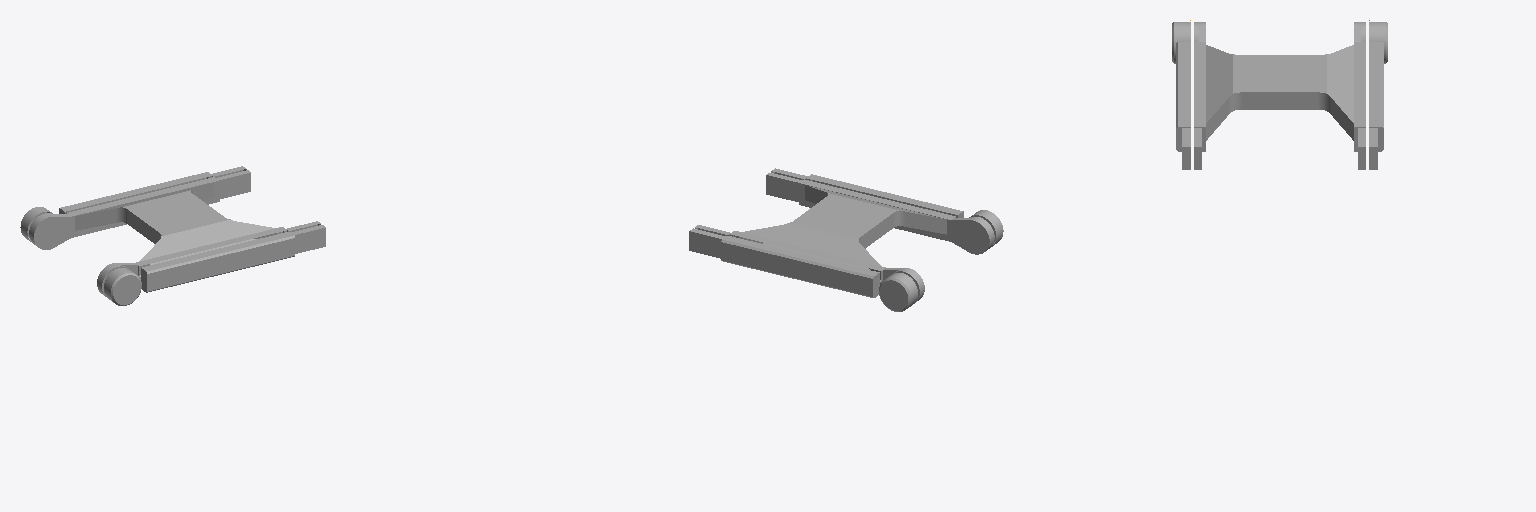
robot.urdf — zx135u:
<?xml version="1.0" encoding="utf-8"?>
<!-- =================================================================================== -->
<!-- |    This document was autogenerated by xacro from zx135u.xacro                   | -->
<!-- |    EDITING THIS FILE BY HAND IS NOT RECOMMENDED                                 | -->
<!-- =================================================================================== -->
<robot name="zx135u">
  <!-- Inertia is calculated as slender rod in https://en.wikipedia.org/wiki/List_of_moments_of_inertia#List_of_3D_inertia_tensors -->
  <link name="base_link"/>
  <link name="track_body_link">
    <visual>
      <geometry>
        <mesh filename="package://excavator_model/mesh/meshbody39_rviz.stl"/>
      </geometry>
      <origin rpy="0 0 0" xyz="0 0 0"/>
      <material name="Gray">
        <color rgba="0.7 0.7 0.7 1.0"/>
      </material>
    </visual>
    <inertial>
      <mass value="2.0"/>
      <inertia ixx="1" ixy="0.0" ixz="0.0" iyy="1" iyz="0.0" izz="1"/>
    </inertial>
  </link>
  <joint name="track_body_joint" type="fixed">
    <origin rpy="0 0 0" xyz="0 0 0"/>
    <parent link="base_link"/>
    <child link="track_body_link"/>
    <axis xyz="0 0 1"/>
  </joint>
  <link name="sprocket_L_link">
    <visual>
      <geometry>
        <mesh filename="package://excavator_model/mesh/meshbody39_rviz_sprocket.stl"/>
      </geometry>
      <origin rpy="0 0 0" xyz="0 0 0"/>
      <material name="Gray">
        <color rgba="0.7 0.7 0.7 1.0"/>
      </material>
    </visual>
  </link>
  <joint name="sprocket_L_joint" type="continuous">
    <origin rpy="0 0 0" xyz="-1.43841 0.991606 0.355475"/>
    <parent link="track_body_link"/>
    <child link="sprocket_L_link"/>
    <axis xyz="0 1 0"/>
  </joint>
  <link name="sprocket_R_link">
    <visual>
      <geometry>
        <mesh filename="package://excavator_model/mesh/meshbody39_rviz_sprocket.stl"/>
      </geometry>
      <origin rpy="0 0 3.14159265359" xyz="0 0 0"/>
      <material name="Gray">
        <color rgba="0.7 0.7 0.7 1.0"/>
      </material>
    </visual>
  </link>
  <joint name="sprocket_R_joint" type="continuous">
    <origin rpy="0 0 0" xyz="-1.43841 -0.991606 0.355475"/>
    <parent link="track_body_link"/>
    <child link="sprocket_R_link"/>
    <axis xyz="0 1 0"/>
  </joint>
  <joint name="left_front_wheel_joint" type="continuous">
    <origin rpy="-1.57079632679 0 0" xyz="0 1 0.6"/>
    <parent link="track_body_link"/>
    <child link="left_front_wheel_link"/>
    <axis xyz="0 0 1"/>
  </joint>
  <transmission name="left_front_wheel_trans" type="SimpleTransmission">
    <type>transmission_interface/SimpleTransmission</type>
    <actuator name="left_front_wheel_motor">
      <mechanicalReduction>1</mechanicalReduction>
    </actuator>
    <joint name="left_front_wheel_joint">
      <hardwareInterface>hardware_interface/VelocityJointInterface</hardwareInterface>
    </joint>
  </transmission>
  <link name="left_front_wheel_link">
    <inertial>
      <origin rpy="0 0 0" xyz="0 0 0"/>
      <mass value="0.1"/>
      <inertia ixx="0.0001" ixy="0.0" ixz="0.0" iyy="0.0001" iyz="0.0" izz="0.0001"/>
    </inertial>
    <visual>
      <geometry>
        <cylinder length="0.001" radius="0.001"/>
      </geometry>
      <!--material name="red"/-->
    </visual>
    <collision>
      <geometry>
        <cylinder length="0.6" radius="0.6"/>
      </geometry>
    </collision>
  </link>
  <gazebo reference="left_front_wheel_link">
    <!--material>Gazebo/Red</material-->
    <mu1 value="2.5"/>
    <mu2 value="2.5"/>
    <kp value="50000"/>
    <kd value="10"/>
  </gazebo>
  <joint name="left_middle_wheel_joint" type="continuous">
    <origin rpy="-1.57079632679 0 0" xyz="-1.5 1 0.6"/>
    <parent link="track_body_link"/>
    <child link="left_middle_wheel_link"/>
    <axis xyz="0 0 1"/>
  </joint>
  <transmission name="left_middle_wheel_trans" type="SimpleTransmission">
    <type>transmission_interface/SimpleTransmission</type>
    <actuator name="left_middle_wheel_motor">
      <mechanicalReduction>1</mechanicalReduction>
    </actuator>
    <joint name="left_middle_wheel_joint">
      <hardwareInterface>hardware_interface/VelocityJointInterface</hardwareInterface>
    </joint>
  </transmission>
  <link name="left_middle_wheel_link">
    <inertial>
      <origin rpy="0 0 0" xyz="0 0 0"/>
      <mass value="0.1"/>
      <inertia ixx="0.0001" ixy="0.0" ixz="0.0" iyy="0.0001" iyz="0.0" izz="0.0001"/>
    </inertial>
    <visual>
      <geometry>
        <cylinder length="0.001" radius="0.001"/>
      </geometry>
      <!--material name="red"/-->
    </visual>
    <collision>
      <geometry>
        <cylinder length="0.6" radius="0.6"/>
      </geometry>
    </collision>
  </link>
  <gazebo reference="left_middle_wheel_link">
    <!--material>Gazebo/Red</material-->
    <mu1 value="2.5"/>
    <mu2 value="2.5"/>
    <kp value="50000"/>
    <kd value="10"/>
  </gazebo>
  <joint name="left_rear_wheel_joint" type="continuous">
    <origin rpy="-1.57079632679 0 0" xyz="1.5 1 0.6"/>
    <parent link="track_body_link"/>
    <child link="left_rear_wheel_link"/>
    <axis xyz="0 0 1"/>
  </joint>
  <transmission name="left_rear_wheel_trans" type="SimpleTransmission">
    <type>transmission_interface/SimpleTransmission</type>
    <actuator name="left_rear_wheel_motor">
      <mechanicalReduction>1</mechanicalReduction>
    </actuator>
    <joint name="left_rear_wheel_joint">
      <hardwareInterface>hardware_interface/VelocityJointInterface</hardwareInterface>
    </joint>
  </transmission>
  <link name="left_rear_wheel_link">
    <inertial>
      <origin rpy="0 0 0" xyz="0 0 0"/>
      <mass value="0.1"/>
      <inertia ixx="0.0001" ixy="0.0" ixz="0.0" iyy="0.0001" iyz="0.0" izz="0.0001"/>
    </inertial>
    <visual>
      <geometry>
        <cylinder length="0.001" radius="0.001"/>
      </geometry>
      <!--material name="red"/-->
    </visual>
    <collision>
      <geometry>
        <cylinder length="0.6" radius="0.6"/>
      </geometry>
    </collision>
  </link>
  <gazebo reference="left_rear_wheel_link">
    <!--material>Gazebo/Red</material-->
    <mu1 value="2.5"/>
    <mu2 value="2.5"/>
    <kp value="50000"/>
    <kd value="10"/>
  </gazebo>
  <joint name="right_front_wheel_joint" type="continuous">
    <origin rpy="-1.57079632679 0 0" xyz="0 -1 0.6"/>
    <parent link="track_body_link"/>
    <child link="right_front_wheel_link"/>
    <axis xyz="0 0 1"/>
  </joint>
  <transmission name="right_front_wheel_trans" type="SimpleTransmission">
    <type>transmission_interface/SimpleTransmission</type>
    <actuator name="right_front_wheel_motor">
      <mechanicalReduction>1</mechanicalReduction>
    </actuator>
    <joint name="right_front_wheel_joint">
      <hardwareInterface>hardware_interface/VelocityJointInterface</hardwareInterface>
    </joint>
  </transmission>
  <link name="right_front_wheel_link">
    <inertial>
      <origin rpy="0 0 0" xyz="0 0 0"/>
      <mass value="0.1"/>
      <inertia ixx="0.0001" ixy="0.0" ixz="0.0" iyy="0.0001" iyz="0.0" izz="0.0001"/>
    </inertial>
    <visual>
      <geometry>
        <cylinder length="0.001" radius="0.001"/>
      </geometry>
      <!--material name="red"/-->
    </visual>
    <collision>
      <geometry>
        <cylinder length="0.6" radius="0.6"/>
      </geometry>
    </collision>
  </link>
  <gazebo reference="right_front_wheel_link">
    <!--material>Gazebo/Red</material-->
    <mu1 value="2.5"/>
    <mu2 value="2.5"/>
    <kp value="50000"/>
    <kd value="10"/>
  </gazebo>
  <joint name="right_middle_wheel_joint" type="continuous">
    <origin rpy="-1.57079632679 0 0" xyz="-1.5 -1 0.6"/>
    <parent link="track_body_link"/>
    <child link="right_middle_wheel_link"/>
    <axis xyz="0 0 1"/>
  </joint>
  <transmission name="right_middle_wheel_trans" type="SimpleTransmission">
    <type>transmission_interface/SimpleTransmission</type>
    <actuator name="right_middle_wheel_motor">
      <mechanicalReduction>1</mechanicalReduction>
    </actuator>
    <joint name="right_middle_wheel_joint">
      <hardwareInterface>hardware_interface/VelocityJointInterface</hardwareInterface>
    </joint>
  </transmission>
  <link name="right_middle_wheel_link">
    <inertial>
      <origin rpy="0 0 0" xyz="0 0 0"/>
      <mass value="0.1"/>
      <inertia ixx="0.0001" ixy="0.0" ixz="0.0" iyy="0.0001" iyz="0.0" izz="0.0001"/>
    </inertial>
    <visual>
      <geometry>
        <cylinder length="0.001" radius="0.001"/>
      </geometry>
      <!--material name="red"/-->
    </visual>
    <collision>
      <geometry>
        <cylinder length="0.6" radius="0.6"/>
      </geometry>
    </collision>
  </link>
  <gazebo reference="right_middle_wheel_link">
    <!--material>Gazebo/Red</material-->
    <mu1 value="2.5"/>
    <mu2 value="2.5"/>
    <kp value="50000"/>
    <kd value="10"/>
  </gazebo>
  <joint name="right_rear_wheel_joint" type="continuous">
    <origin rpy="-1.57079632679 0 0" xyz="1.5 -1 0.6"/>
    <parent link="track_body_link"/>
    <child link="right_rear_wheel_link"/>
    <axis xyz="0 0 1"/>
  </joint>
  <transmission name="right_rear_wheel_trans" type="SimpleTransmission">
    <type>transmission_interface/SimpleTransmission</type>
    <actuator name="right_rear_wheel_motor">
      <mechanicalReduction>1</mechanicalReduction>
    </actuator>
    <joint name="right_rear_wheel_joint">
      <hardwareInterface>hardware_interface/VelocityJointInterface</hardwareInterface>
    </joint>
  </transmission>
  <link name="right_rear_wheel_link">
    <inertial>
      <origin rpy="0 0 0" xyz="0 0 0"/>
      <mass value="0.1"/>
      <inertia ixx="0.0001" ixy="0.0" ixz="0.0" iyy="0.0001" iyz="0.0" izz="0.0001"/>
    </inertial>
    <visual>
      <geometry>
        <cylinder length="0.001" radius="0.001"/>
      </geometry>
      <!--material name="red"/-->
    </visual>
    <collision>
      <geometry>
        <cylinder length="0.6" radius="0.6"/>
      </geometry>
    </collision>
  </link>
  <gazebo reference="right_rear_wheel_link">
    <!--material>Gazebo/Red</material-->
    <mu1 value="2.5"/>
    <mu2 value="2.5"/>
    <kp value="50000"/>
    <kd value="10"/>
  </gazebo>
  <!-- Track Model and Joint Definition-->
  <link name="track_link">
    <visual>
      <geometry>
        <mesh filename="package://excavator_model/mesh/meshbody38_rviz.stl"/>
      </geometry>
      <origin rpy="0 0 0" xyz="0 0 0"/>
      <material name="Black">
        <color rgba="0.0 0.0 0.0 1.0"/>
      </material>
    </visual>
    <inertial>
      <mass value="1"/>
      <inertia ixx="1" ixy="0.0" ixz="0.0" iyy="1" iyz="0.0" izz="1"/>
    </inertial>
  </link>
  <joint name="track_joint" type="fixed">
    <parent link="base_link"/>
    <child link="track_link"/>
    <origin xyz="0 0 0"/>
  </joint>
  <gazebo reference="track_link">
    <material>Gazebo/Black</material>
    <turnGravityOff>True</turnGravityOff>
  </gazebo>
  <!-- Rotator Model and Joint Definition-->
  <link name="rotator_link">
    <visual>
      <geometry>
        <mesh filename="package://excavator_model/mesh/meshbody1_rviz.stl"/>
      </geometry>
      <origin rpy="0 0 0" xyz="0 0 0"/>
      <material name="Gray">
        <color rgba="0.7 0.7 0.7 1.0"/>
      </material>
    </visual>
    <inertial>
      <mass value="1"/>
      <!-- inertia ixx="${(boom_mass*4.6*4.6)/3}" ixy="0.0" ixz="0.0" iyy="0.0" iyz="0.0" izz="${(boom_mass*4.6*4.6)/3}"/ -->
      <inertia ixx="1" ixy="0.0" ixz="0.0" iyy="1" iyz="0.0" izz="1"/>
    </inertial>
  </link>
  <joint name="rotator_joint" type="continuous">
    <parent link="base_link"/>
    <child link="rotator_link"/>
    <axis xyz="0 0 1"/>
    <origin xyz="0 0 0.643"/>
    <!-- limit effort="100" lower="${-70/180*PI}" upper="${44/180*PI}" velocity="5"/-->
  </joint>
  <!-- upper Model and Joint Definition-->
  <link name="upper_link">
    <visual>
      <geometry>
        <mesh filename="package://excavator_model/mesh/meshbody12-18_rviz.stl"/>
      </geometry>
      <origin rpy="0 0 0" xyz="0 0 0"/>
      <material name="Orange">
        <color rgba="0.97 0.41 0.05 1"/>
      </material>
    </visual>
    <inertial>
      <mass value="1"/>
      <inertia ixx="1" ixy="0.0" ixz="0.0" iyy="1" iyz="0.0" izz="1"/>
    </inertial>
  </link>
  <joint name="upper_joint" type="fixed">
    <parent link="rotator_link"/>
    <child link="upper_link"/>
    <origin xyz="0 0 0.249"/>
  </joint>
  <gazebo reference="upper_link">
    <material>Gazebo/Orange</material>
    <turnGravityOff>True</turnGravityOff>
  </gazebo>
  <!-- cabin Model and Joint Definition-->
  <link name="cabin_link">
    <visual>
      <geometry>
        <mesh filename="package://excavator_model/mesh/meshbody10_rviz.stl"/>
      </geometry>
      <origin rpy="0 0 0" xyz="0 0 0"/>
      <material name="Black">
        <color rgba="0 0 0 1.0"/>
      </material>
    </visual>
    <visual>
      <geometry>
        <mesh filename="package://excavator_model/mesh/meshbody2-8_rviz.stl"/>
      </geometry>
      <origin rpy="0 0 0" xyz="0 0 0"/>
      <material name="White">
        <color rgba="1.0 1.0 1.0 1.0"/>
      </material>
    </visual>
  </link>
  <joint name="cabin_joint" type="fixed">
    <parent link="upper_link"/>
    <child link="cabin_link"/>
    <origin xyz="0 0 0.2"/>
  </joint>
  <gazebo reference="cabin_link">
    <turnGravityOff>True</turnGravityOff>
  </gazebo>
  <!-- boom Model and Joint Definition-->
  <link name="boom_link">
    <visual>
      <geometry>
        <mesh filename="package://excavator_model/mesh/meshbody19_rviz.stl" scale="1.115 1.115 1.115"/>
      </geometry>
      <origin rpy="0 -1.54579632675 0" xyz="0 0 0"/>
      <material name="Orange">
        <color rgba="0.97 0.41 0.05 1"/>
      </material>
    </visual>
    <inertial>
      <mass value="1"/>
      <inertia ixx="7.05333333333" ixy="0.0" ixz="0.0" iyy="0.0" iyz="0.0" izz="7.05333333333"/>
    </inertial>
  </link>
  <joint name="boom_joint" type="revolute">
    <parent link="upper_link"/>
    <child link="boom_link"/>
    <axis xyz="0 1 0"/>
    <origin rpy="0 1.57079632675 0" xyz="0.14 -0.16 0.532"/>
    <limit effort="1" lower="-1.22173047636" upper="0.767944870856" velocity="0.5"/>
  </joint>
  <gazebo reference="boom_link">
    <material>Gazebo/Orange</material>
    <turnGravityOff>True</turnGravityOff>
  </gazebo>
  <!-- arm Model and Joint Definition-->
  <link name="arm_link">
    <visual>
      <geometry>
        <mesh filename="package://excavator_model/mesh/meshbody26_rviz.stl" scale="1.17 1.17 1.17"/>
      </geometry>
      <origin rpy="0 2.08439510233 0" xyz="-0.3 0 -0.55"/>
      <material name="Orange">
        <color rgba="0.97 0.41 0.05 1"/>
      </material>
    </visual>
    <inertial>
      <mass value="1"/>
      <inertia ixx="7.05333333333" ixy="0.0" ixz="0.0" iyy="0.0" iyz="0.0" izz="7.05333333333"/>
    </inertial>
  </link>
  <joint name="arm_joint" type="revolute">
    <parent link="boom_link"/>
    <child link="arm_link"/>
    <axis xyz="0 1 0"/>
    <origin rpy="0 0 0" xyz="0 0 4.6"/>
    <limit effort="1" lower="0.523598775583" upper="2.65290046296" velocity="0.5"/>
  </joint>
  <gazebo reference="arm_link">
    <material>Gazebo/Orange</material>
    <turnGravityOff>True</turnGravityOff>
  </gazebo>
  <!-- backet Model and Joint Definition-->
  <link name="backet_link">
    <visual>
      <geometry>
        <mesh filename="package://excavator_model/mesh/meshbody24_rviz.stl" scale="0.99 0.99 0.99"/>
      </geometry>
      <origin rpy="0 -0.441598775583 0" xyz="-0.1 0 -0.05"/>
      <material name="Orange">
        <color rgba="0.97 0.41 0.05 1"/>
      </material>
    </visual>
    <inertial>
      <mass value="1"/>
      <inertia ixx="7.05333333333" ixy="0.0" ixz="0.0" iyy="0.0" iyz="0.0" izz="7.05333333333"/>
    </inertial>
  </link>
  <joint name="backet_joint" type="revolute">
    <parent link="arm_link"/>
    <child link="backet_link"/>
    <axis xyz="0 1 0"/>
    <origin rpy="0 0 0" xyz="0 0 2.519"/>
    <limit effort="1" lower="-0.575958653142" upper="2.49582083028" velocity="0.5"/>
  </joint>
  <!-- backet end Model and Joint Definition-->
  <link name="backet_end_link">
    <visual>
      <origin rpy="0 0 0" xyz="0 0 0"/>
      <geometry>
        <box size="0.001 0.001 0.001"/>
      </geometry>
      <material name="red"/>
    </visual>
    <inertial>
      <origin xyz="0 0 0"/>
      <mass value="1.0e-03"/>
      <inertia ixx="1.0e-03" ixy="0.0" ixz="0.0" iyy="1.0e-03" iyz="0.0" izz="1.0e-03"/>
    </inertial>
  </link>
  <joint name="backet_end_joint" type="revolute">
    <parent link="backet_link"/>
    <child link="backet_end_link"/>
    <axis xyz="1 0 0"/>
    <origin rpy="0 0 0" xyz="0 0 1.23"/>
    <limit effort="1" lower="-3.14" upper="3.14" velocity="0.5"/>
  </joint>
  <gazebo reference="backet_link">
    <material>Gazebo/Orange</material>
    <turnGravityOff>True</turnGravityOff>
  </gazebo>
  <transmission name="rotator_trans">
    <type>transmission_interface/SimpleTransmission</type>
    <joint name="rotator_joint">
      <hardwareInterface>hardware_interface/PositionJointInterface</hardwareInterface>
    </joint>
    <actuator name="rotator_motor">
      <hardwareInterface>hardware_interface/PositionJointInterface</hardwareInterface>
      <mechanicalReduction>1</mechanicalReduction>
    </actuator>
  </transmission>
  <transmission name="boom_trans">
    <type>transmission_interface/SimpleTransmission</type>
    <joint name="boom_joint">
      <hardwareInterface>hardware_interface/PositionJointInterface</hardwareInterface>
    </joint>
    <actuator name="boom_motor">
      <hardwareInterface>hardware_interface/PositionJointInterface</hardwareInterface>
      <mechanicalReduction>1</mechanicalReduction>
    </actuator>
  </transmission>
  <transmission name="arm_trans">
    <type>transmission_interface/SimpleTransmission</type>
    <joint name="arm_joint">
      <hardwareInterface>hardware_interface/PositionJointInterface</hardwareInterface>
    </joint>
    <actuator name="arm_motor">
      <hardwareInterface>hardware_interface/PositionJointInterface</hardwareInterface>
      <mechanicalReduction>1</mechanicalReduction>
    </actuator>
  </transmission>
  <transmission name="backet_trans">
    <type>transmission_interface/SimpleTransmission</type>
    <joint name="backet_joint">
      <hardwareInterface>hardware_interface/PositionJointInterface</hardwareInterface>
    </joint>
    <actuator name="backet_motor">
      <hardwareInterface>hardware_interface/PositionJointInterface</hardwareInterface>
      <mechanicalReduction>1</mechanicalReduction>
    </actuator>
  </transmission>
  <transmission name="dummy_trans1">
    <type>transmission_interface/SimpleTransmission</type>
    <joint name="backet_end_joint">
      <hardwareInterface>hardware_interface/PositionJointInterface</hardwareInterface>
    </joint>
    <actuator name="dummy_motor1">
      <hardwareInterface>hardware_interface/PositionJointInterface</hardwareInterface>
      <mechanicalReduction>1</mechanicalReduction>
    </actuator>
  </transmission>
  <gazebo>
    <plugin filename="libgazebo_ros_control.so" name="gazebo_ros_control">
      <robotNamespace>/zx135u</robotNamespace>
      <robotSimType>gazebo_ros_control/DefaultRobotHWSim</robotSimType>
      <legacyModeNS>true</legacyModeNS>
    </plugin>
  </gazebo>
</robot>

--- Render facts (derived) ---
Views: 3 orthographic renders of the robot side by side, from view 1: azimuth 30°, elevation 25°; view 2: azimuth 150°, elevation 25°; view 3: azimuth 270°, elevation 25°.
Robot: zx135u — 18 links, 17 joints (4 revolute, 9 continuous, 4 fixed); root link base_link; default pose: joints at zero except 1 at the middle of their limits (arm_joint = 1.59).
Links seen in each view (by area): view 1: track_body_link, sprocket_R_link; view 2: track_body_link, sprocket_L_link; view 3: track_body_link.
Boxes of the visible links, x1,y1,x2,y2 form: track_body_link: (29, 166, 325, 296); sprocket_R_link: (104, 268, 141, 305); track_body_link: (689, 168, 994, 303); sprocket_L_link: (879, 273, 917, 311); track_body_link: (1176, 22, 1383, 169).
Bounding box of the posed robot: 6.35 × 2.41 × 2.97 m (x, y, z).
Meshes: 10 distinct files referenced, 3 mesh visuals loaded (2 binary STL); not drawn: 8 (reference not matched to a file when rendering).
